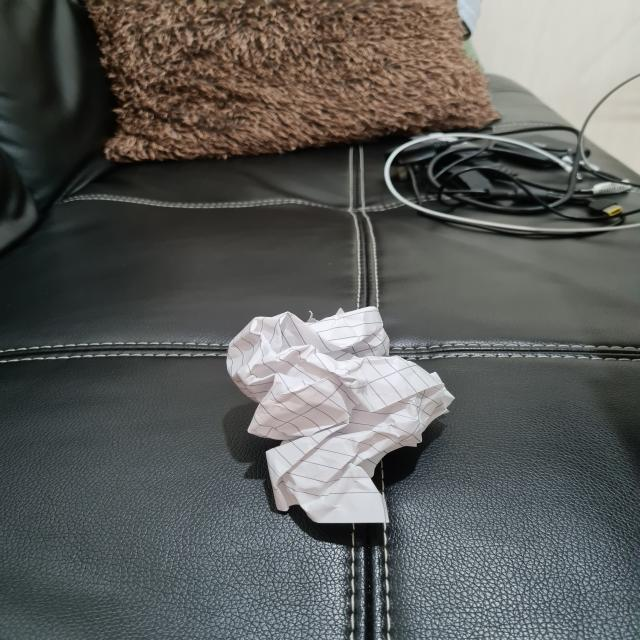Paper: (224, 301, 459, 527)
